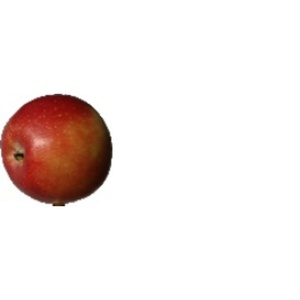maçã braeburn: (1, 89, 116, 207)
